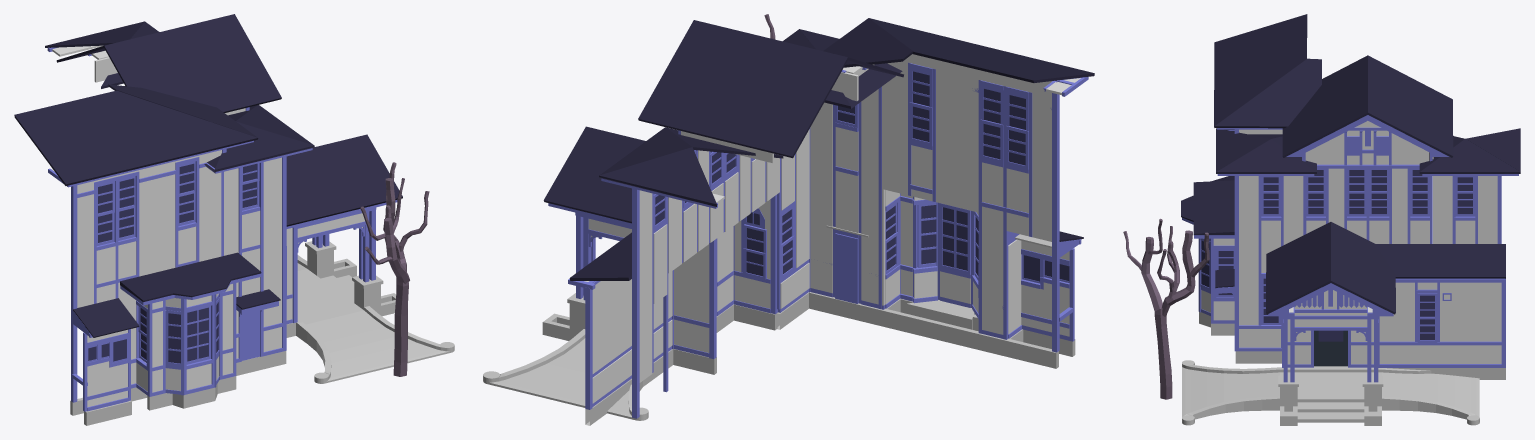
File: OldHouse.fbx
3 renders of one model, left to right at view 1: azimuth 30°, elevation 25°; view 2: azimuth 150°, elevation 25°; view 3: azimuth 270°, elevation 25°, orthographic. The views are drawn at different scales.
Visible parts, largest first — view 1: OldHouse, ´ree; view 2: OldHouse; view 3: OldHouse, ´ree.
Boxes of the visible parts, box(x1,y1,x2,y2) form: OldHouse: box(14, 14, 454, 425); ´ree: box(360, 162, 429, 376); OldHouse: box(483, 18, 1094, 425); OldHouse: box(1181, 14, 1520, 425); ´ree: box(1123, 218, 1209, 399).
Size of the model in its own units: 3722 by 2763 by 3809.
